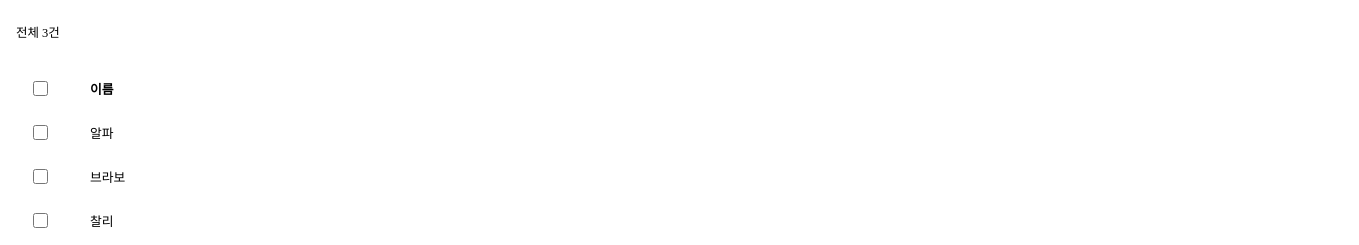
Test: DataTableBox › canDelete 조건이 false면 선택 후 삭제 버튼을 비활성화한다
The width and height of the screenshot is (1359, 245).
Click the checkbox named "행 선택" next to "알파". click: (40, 132)
box: [33,124,48,140]
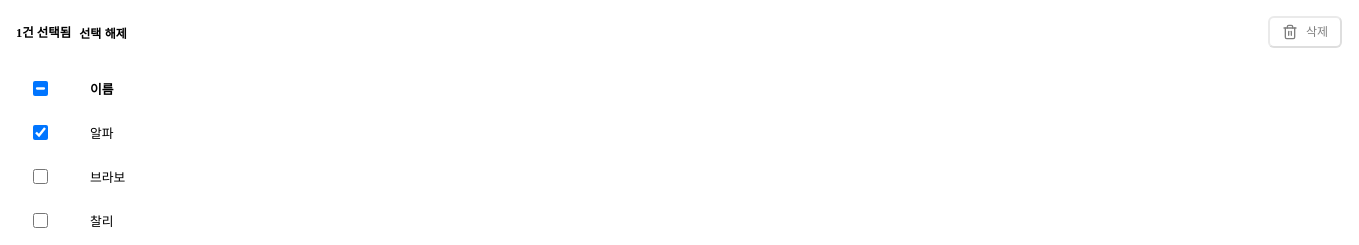
Check: the button "삭제" is disabled, box [1268,16,1342,48]
